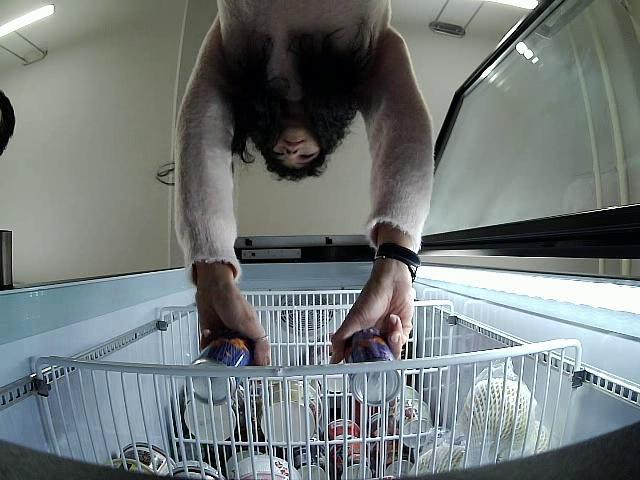16_hot6: (341, 328, 403, 406), (190, 332, 252, 407)
